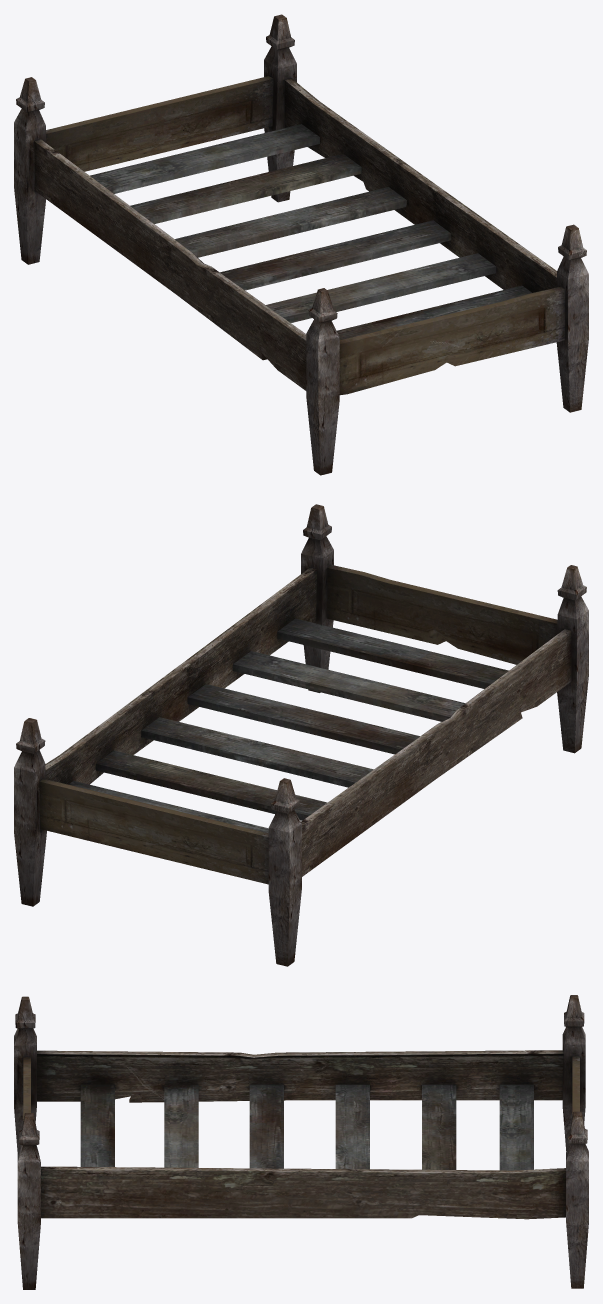
Rendered from bed_simple.dae.
The picture shows the model from 3 angles, top to bottom: view 1: azimuth 30°, elevation 25°; view 2: azimuth 150°, elevation 25°; view 3: azimuth 270°, elevation 25°; orthographic projection. The views are drawn at different scales.
Visible parts, largest first — view 1: polySurface18; view 2: polySurface18; view 3: polySurface18.
Part boxes in pixels (box(x1,y1,x2,y2)): polySurface18: box(14, 14, 588, 475); polySurface18: box(14, 504, 588, 966); polySurface18: box(14, 995, 588, 1289).
Bounding box in the file's own units: 1.13 × 0.7135 × 2.15.
